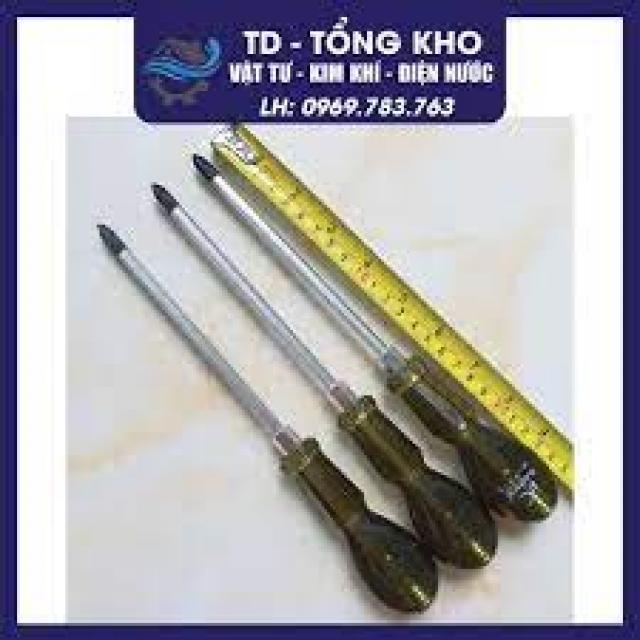screwdriver: (188, 151, 558, 524), (94, 218, 441, 614), (148, 179, 501, 566)
